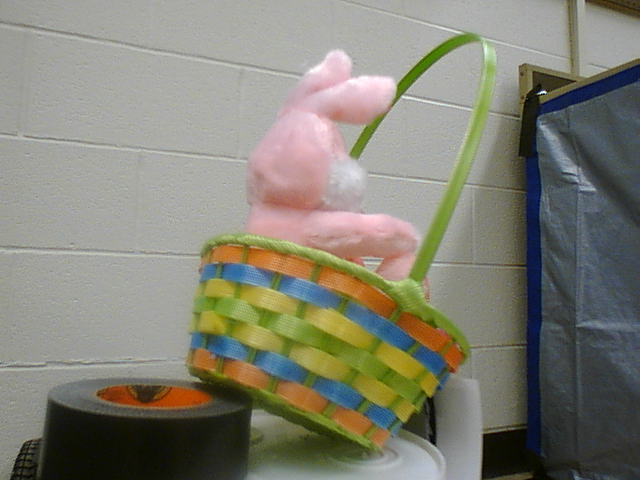bunny: (184, 34, 500, 459)
